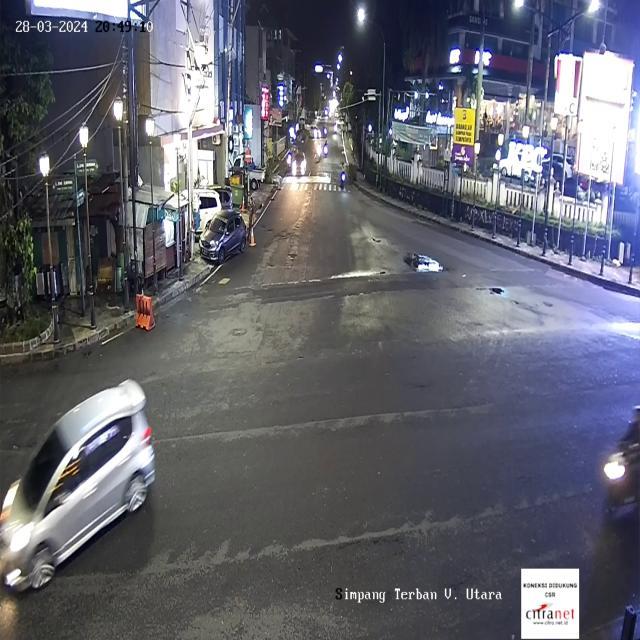car: (0, 379, 157, 597), (199, 216, 247, 266)
motorcycle: (605, 398, 640, 518)
